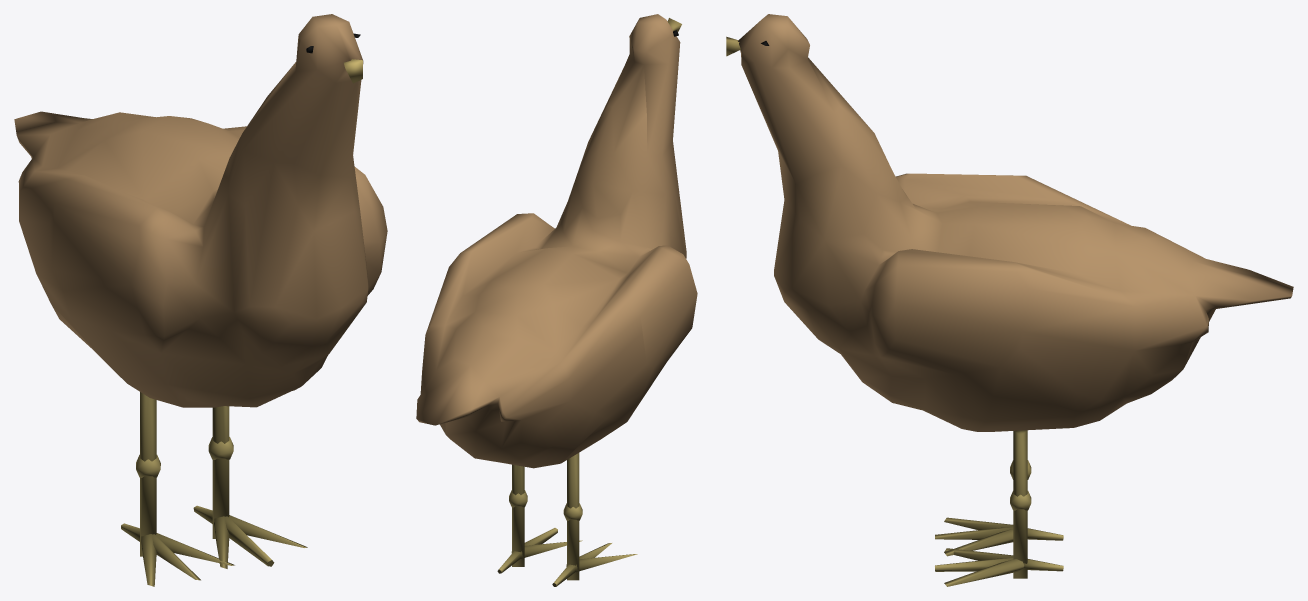
File: huhn.glb
3 views of the same model, side by side, from view 1: azimuth 30°, elevation 25°; view 2: azimuth 150°, elevation 25°; view 3: azimuth 270°, elevation 25° (orthographic). The views are drawn at different scales.
Visible parts, largest first — view 1: lack; view 2: lack; view 3: lack.
Boxes of the visible parts, x1=… form: lack: x1=14, y1=14, x2=387, y2=586; lack: x1=416, y1=14, x2=697, y2=586; lack: x1=726, y1=14, x2=1293, y2=586.
Bounding box in the file's own units: 0.1853 × 0.4168 × 0.395.
